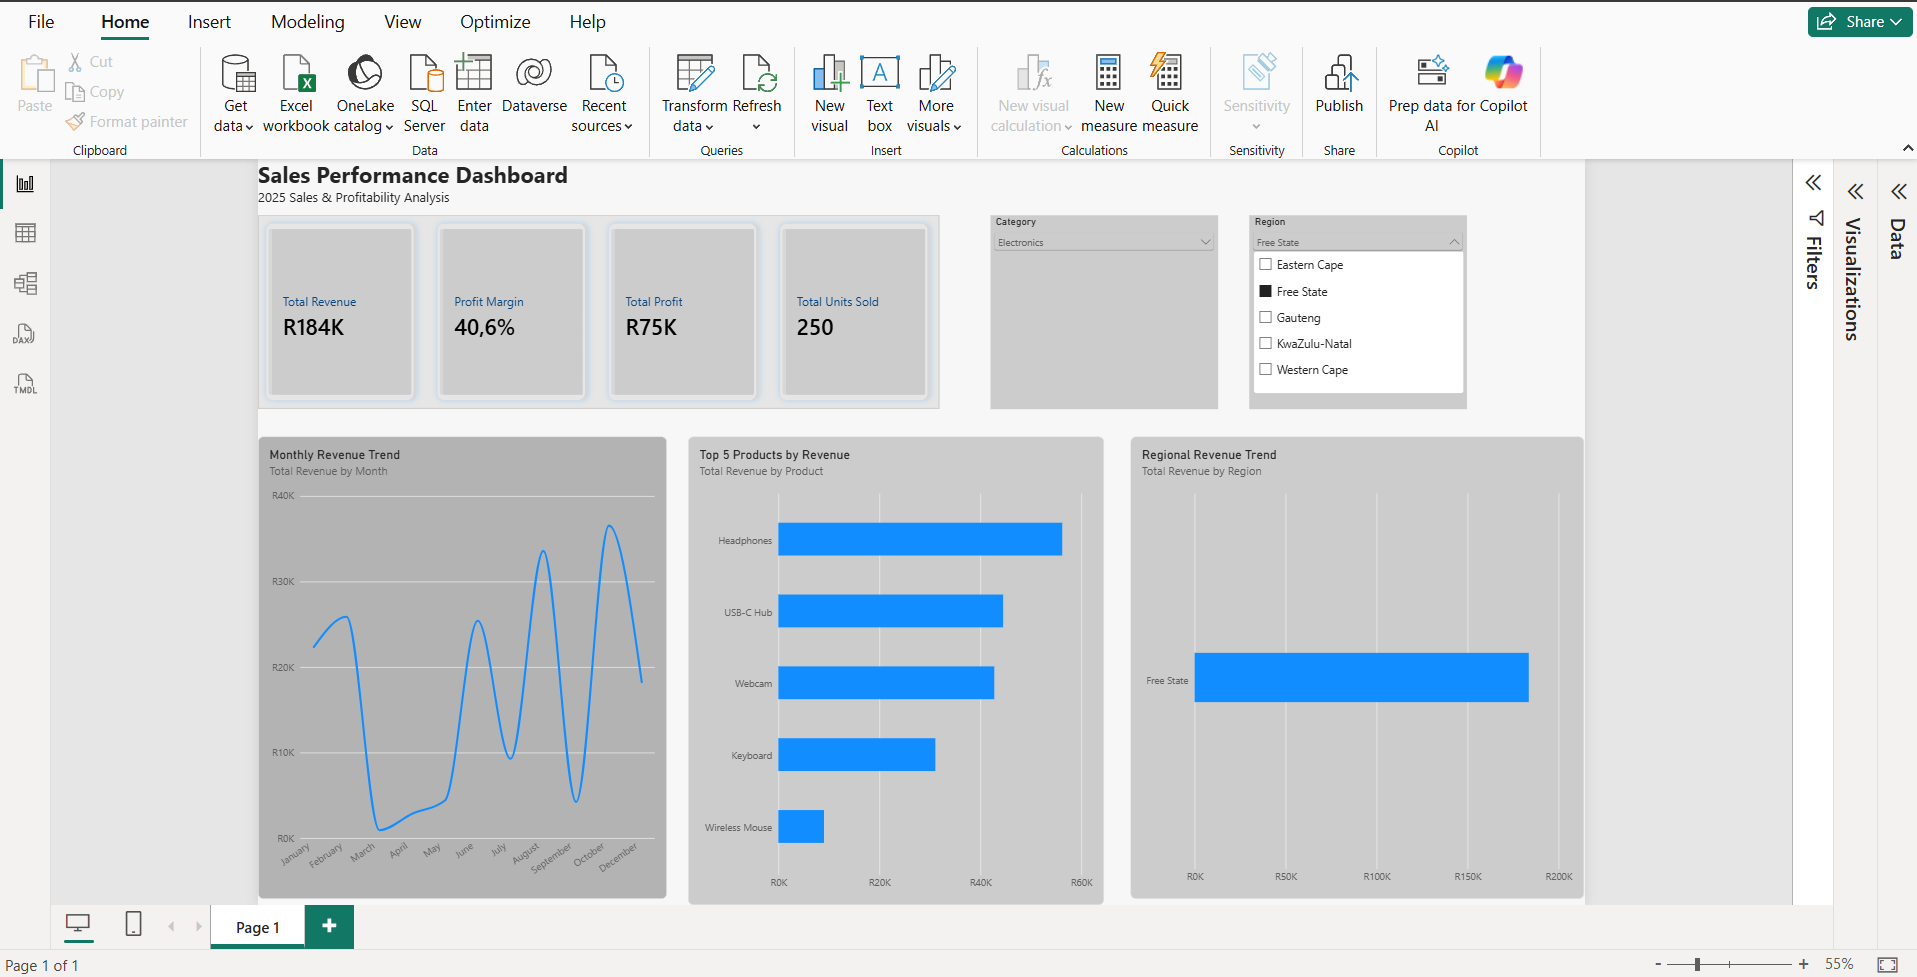

Layout of this report page (visuals, bound fields, positions):
{"tool":"powerbi","page":{"name":"Page 1","canvas":[1920,1080],"ordinal":0},"visuals":[{"type":"cardVisual","fields":{"Data":["Sales_Data.Total Revenue","Sales_Data.Profit Margin","Sales_Data.Total Profit","Sales_Data.Total Units Sold"]},"box":[0,81.2,988.1,280.5],"z":0},{"type":"lineChart","title":"Monthly Revenue Trend","fields":{"Category":["Sales_Data.Order Date.Variation.Date Hierarchy.Year","Sales_Data.Order Date.Variation.Date Hierarchy.Quarter","Sales_Data.Order Date.Variation.Date Hierarchy.Month","Sales_Data.Order Date.Variation.Date Hierarchy.Day"],"Y":["Sales_Data.Total Revenue"]},"box":[0,401.7,591.8,669.6],"z":1},{"type":"clusteredBarChart","title":"Regional Revenue Trend","fields":{"Category":["Sales_Data.Region"],"Y":["Sales_Data.Total Revenue"]},"box":[1263.1,401.7,656.9,669.6],"z":2},{"type":"clusteredBarChart","title":"Top 5 Products by Revenue","fields":{"Category":["Sales_Data.Product"],"Y":["Sales_Data.Total Revenue"]},"box":[622.5,401.7,602.6,678.6],"z":3},{"type":"slicer","fields":{"Values":["Sales_Data.Region"]},"box":[1435.1,81.4,314.9,280.5],"z":4},{"type":"slicer","fields":{"Values":["Sales_Data.Category"]},"box":[1060.5,81.4,329.4,280.5],"z":5},{"type":"textbox","box":[0,0,470.5,161.1],"z":6}]}

Visuals, with their boxes on the page's 1920x1080 design canvas (x1, y1, x2, y2). These are canvas units, not pixel positions in the 1917x977 screenshot, which may show the page scaled, cropped or inside an application window:
cardVisual - Sales_Data.Total Revenue x Sales_Data.Profit Margin: [0, 81, 988, 362]
"Monthly Revenue Trend" lineChart: [0, 402, 592, 1071]
"Regional Revenue Trend" clusteredBarChart: [1263, 402, 1920, 1071]
"Top 5 Products by Revenue" clusteredBarChart: [622, 402, 1225, 1080]
slicer - Sales_Data.Region: [1435, 81, 1750, 362]
slicer - Sales_Data.Category: [1060, 81, 1390, 362]
textbox: [0, 0, 470, 161]
